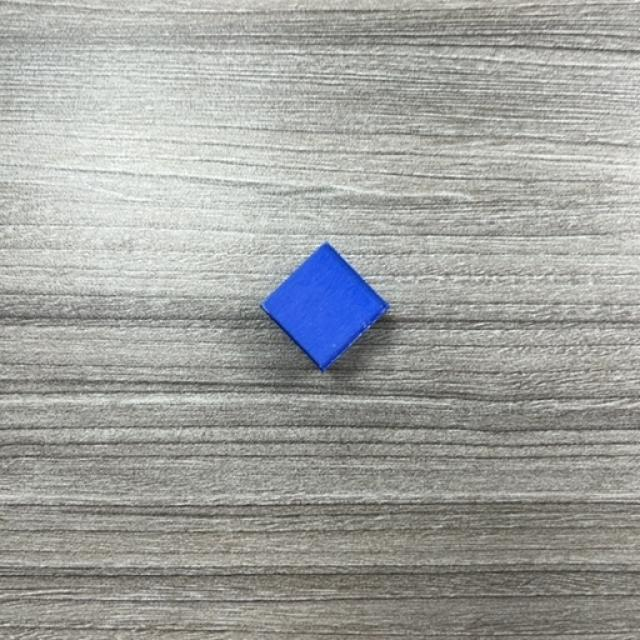Azul: (260, 244, 390, 372)
